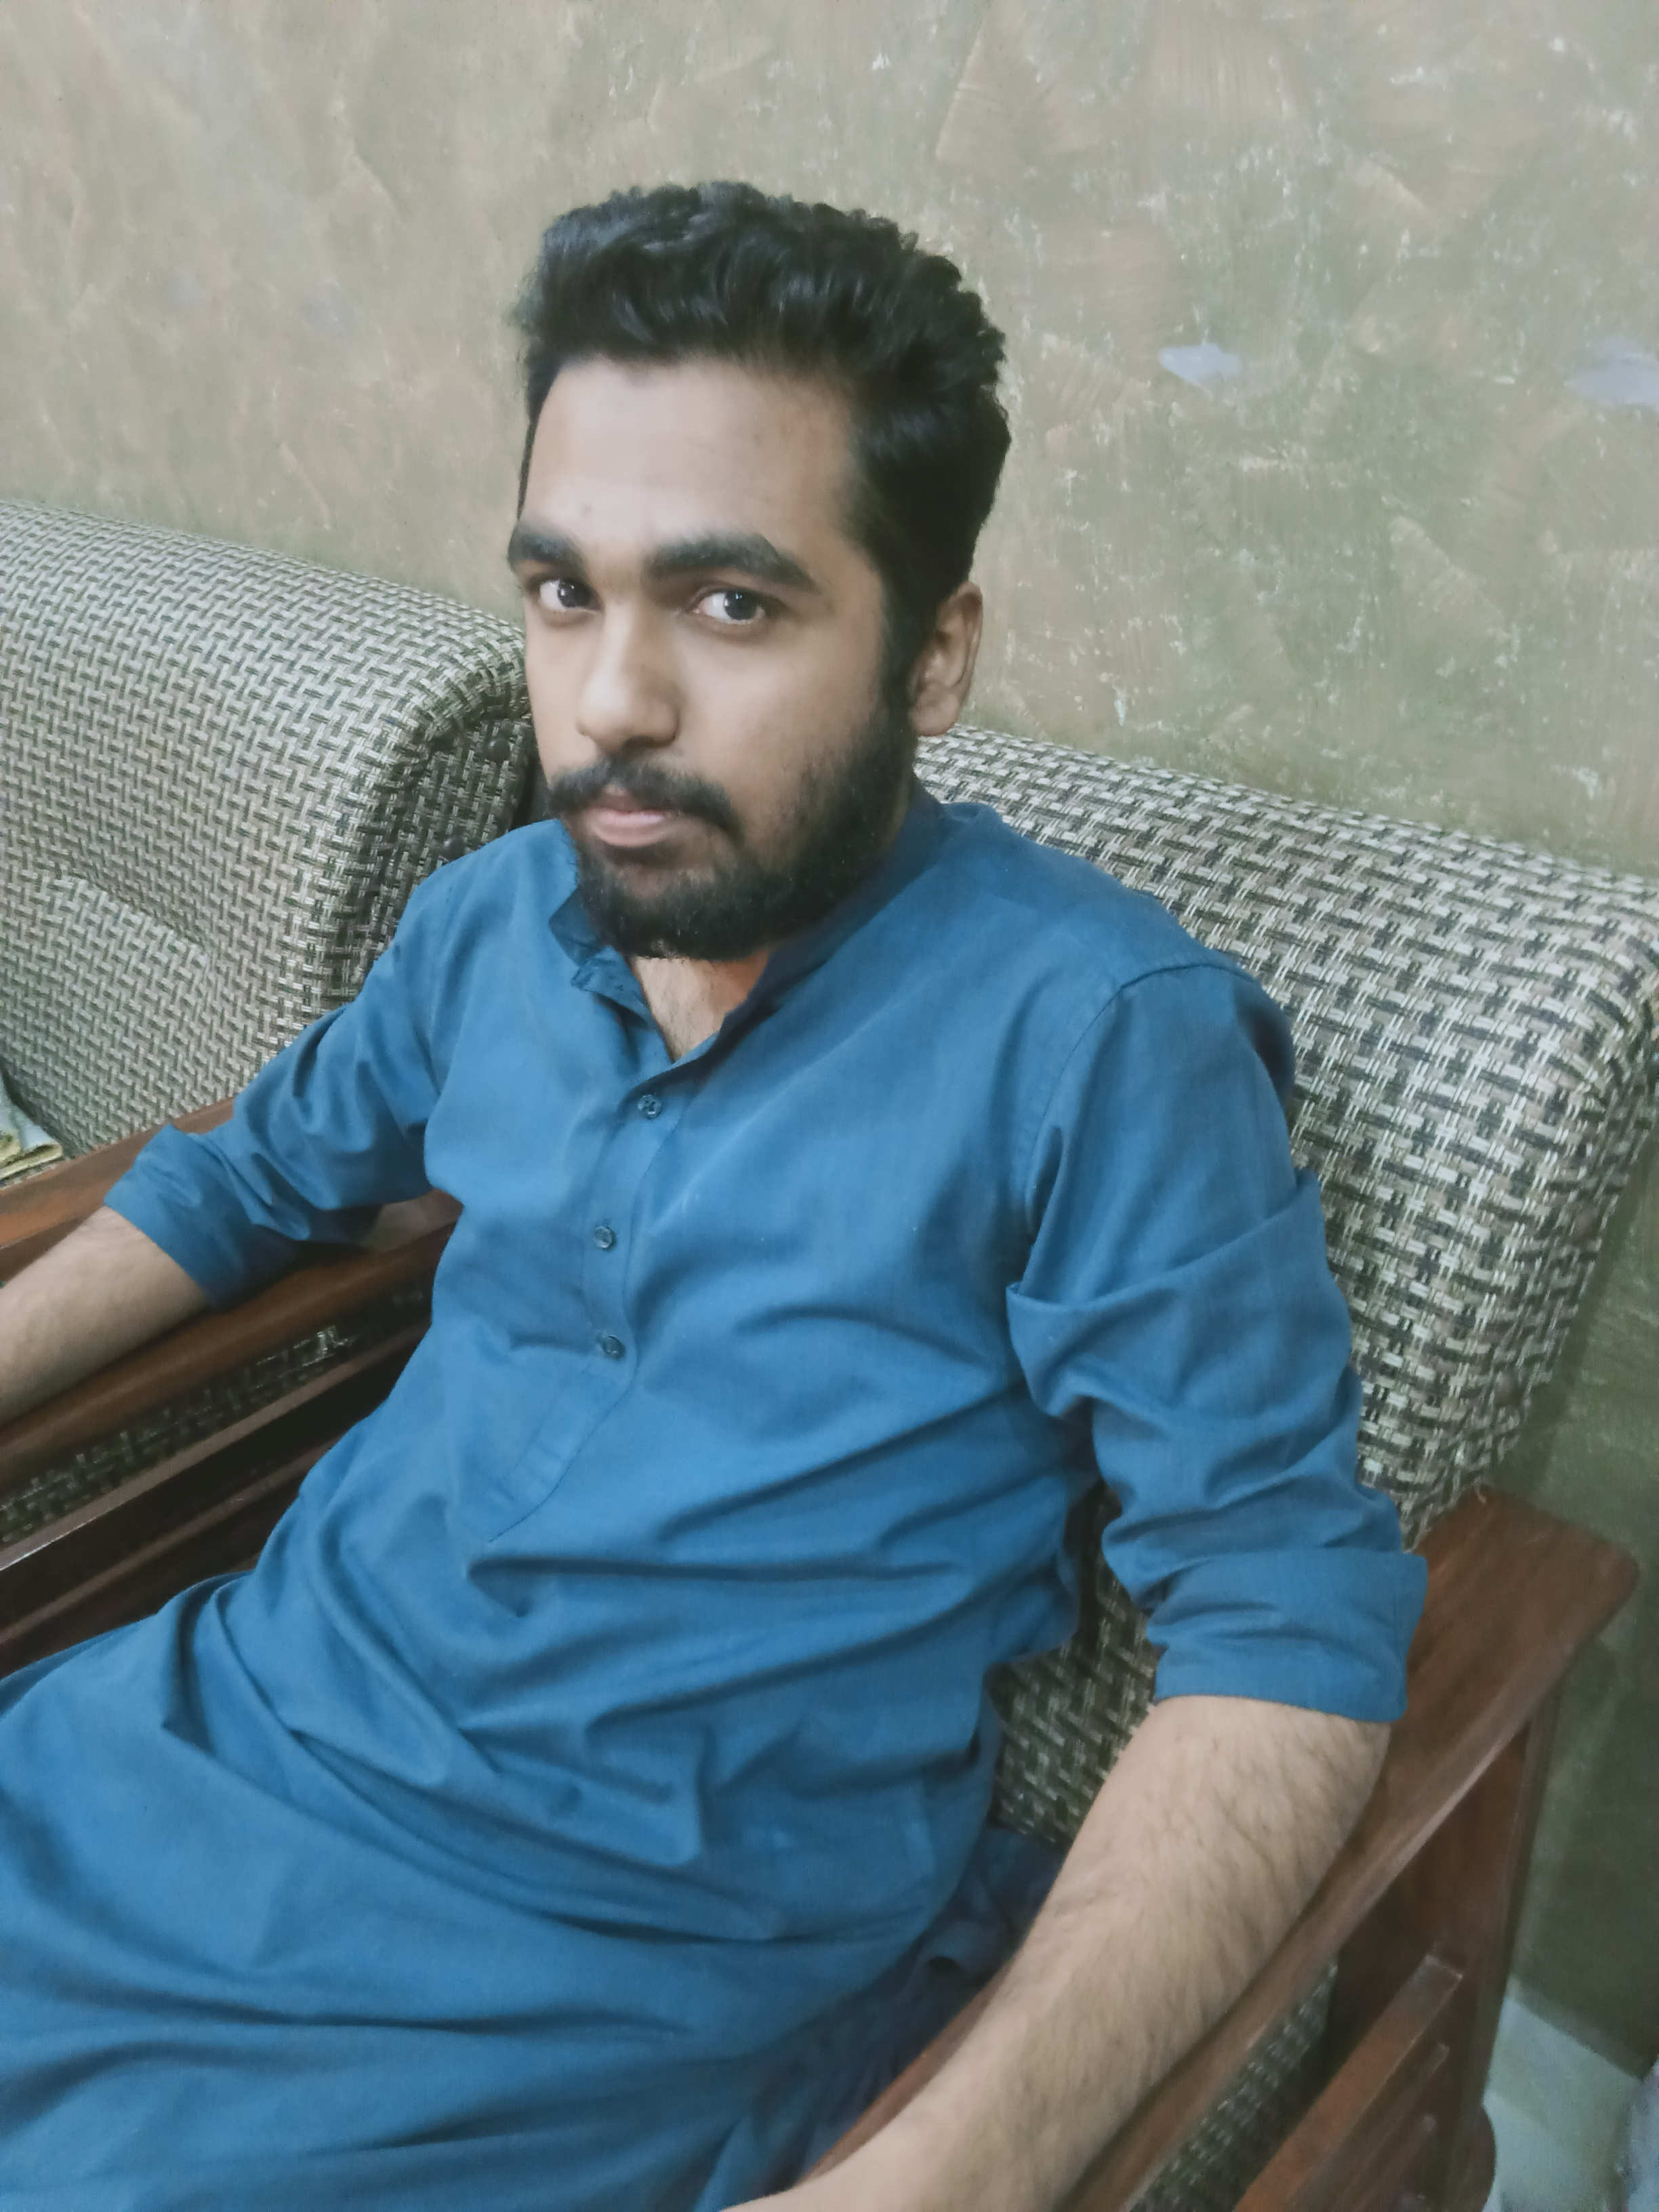NoMask: (508, 499, 829, 957)
